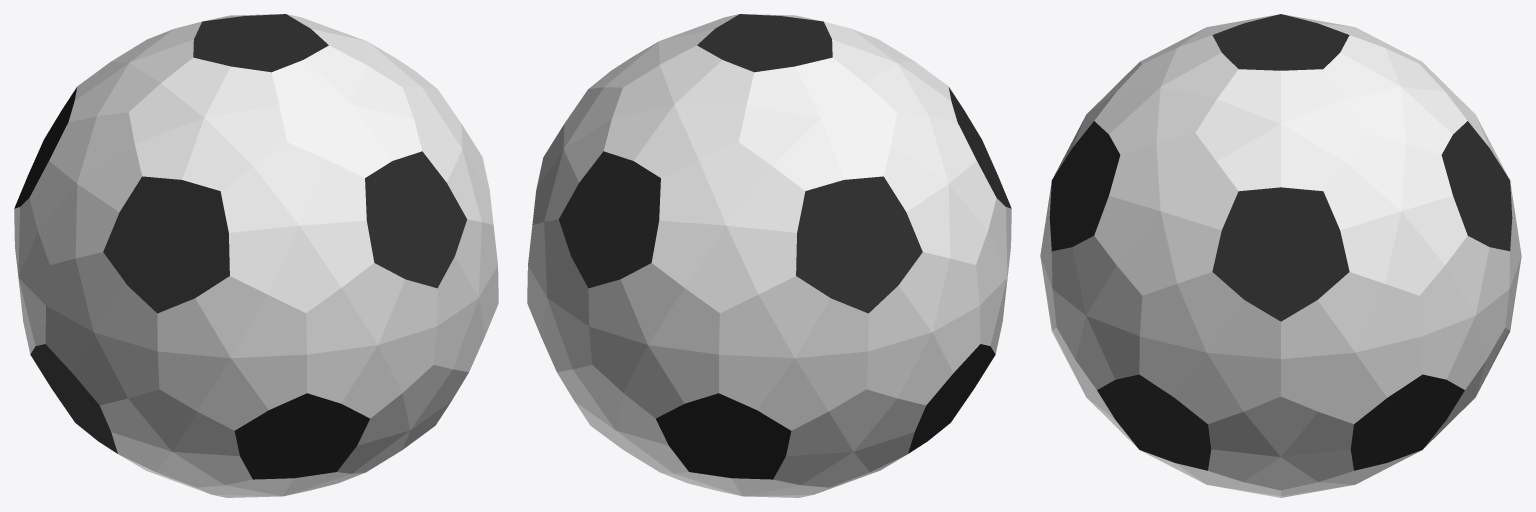
The model's file is BallLowPoly.fbx.
The picture shows the model from 3 angles, left to right: view 1: azimuth 30°, elevation 25°; view 2: azimuth 150°, elevation 25°; view 3: azimuth 270°, elevation 25°; orthographic projection.
Visible parts, largest first — view 1: Icosphere; view 2: Icosphere; view 3: Icosphere.
Part boxes in pixels (x1=…): Icosphere: x1=14, y1=14, x2=498, y2=497; Icosphere: x1=527, y1=14, x2=1011, y2=497; Icosphere: x1=1040, y1=14, x2=1521, y2=497.
Size of the model in its own units: 1.85 by 1.85 by 1.79.
